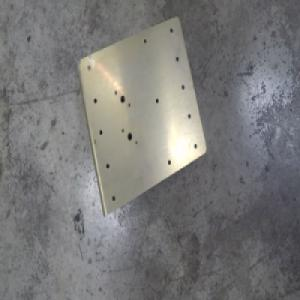MetalSheet: (74, 13, 207, 220)
